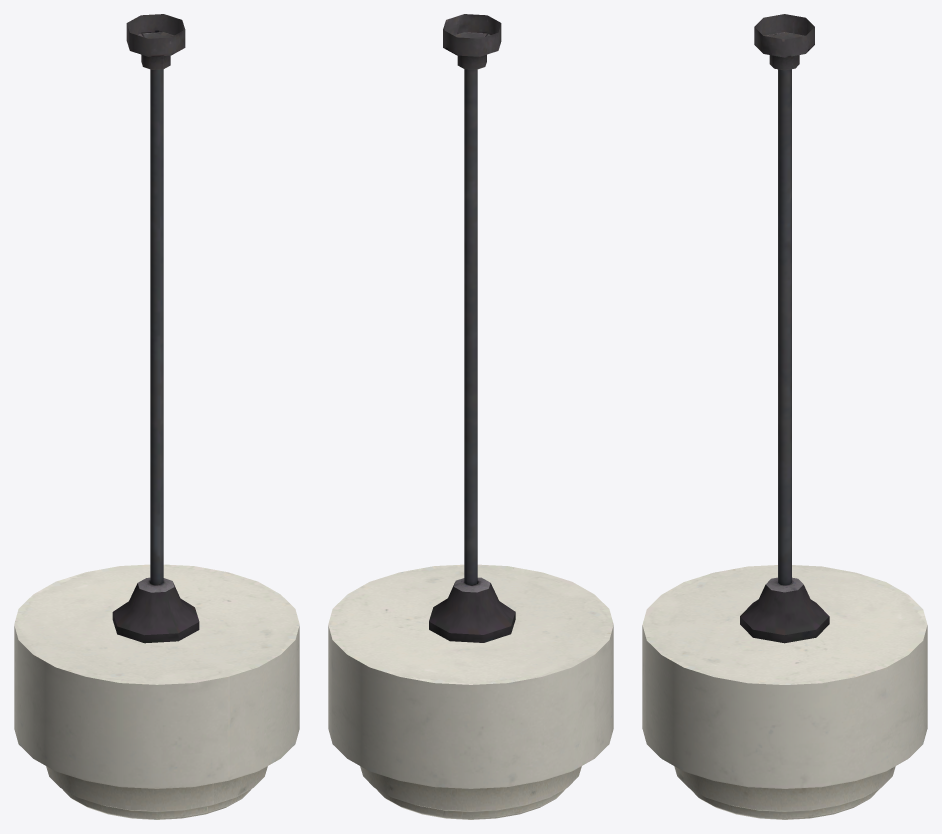
File: light02_64_on.glb
The picture shows the model from 3 angles, left to right: view 1: azimuth 30°, elevation 25°; view 2: azimuth 150°, elevation 25°; view 3: azimuth 270°, elevation 25°; orthographic projection.
Visible parts, largest first — view 1: light02_64_on; view 2: light02_64_on; view 3: light02_64_on.
Part boxes in pixels (x1,y1,x2,y2): light02_64_on: (14,14,299,819); light02_64_on: (328,14,613,819); light02_64_on: (642,14,927,819).
Size of the model in its own units: 0.4191 by 1.22 by 0.4191.
1 material, 1 textured.
